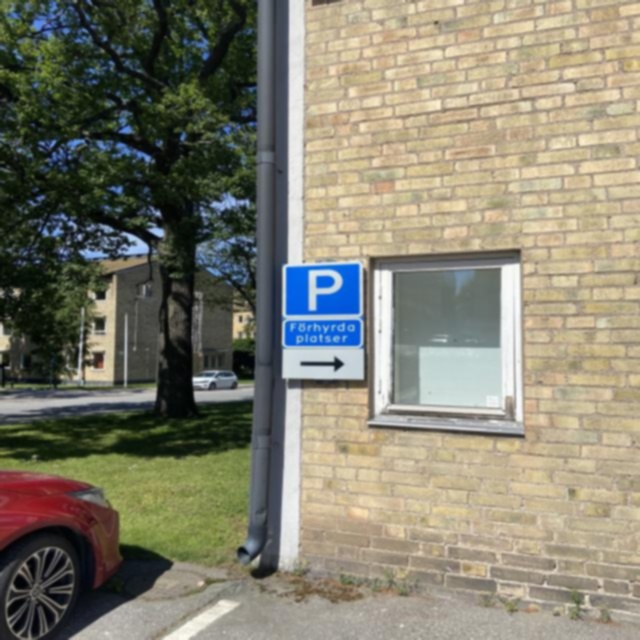P-skylt: (280, 262, 366, 318)
